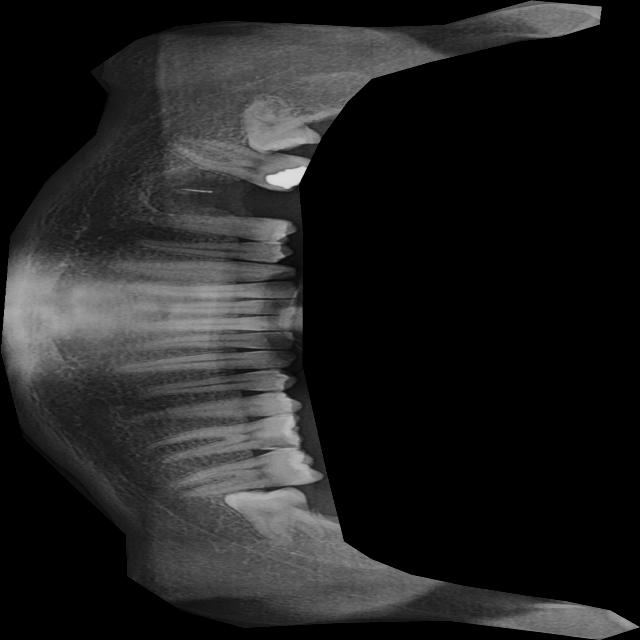mandibula: (0, 0, 639, 640)
